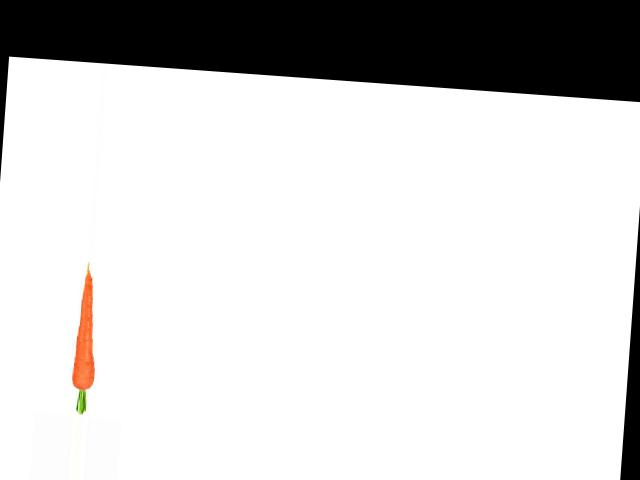carrot: (60, 260, 121, 400)
